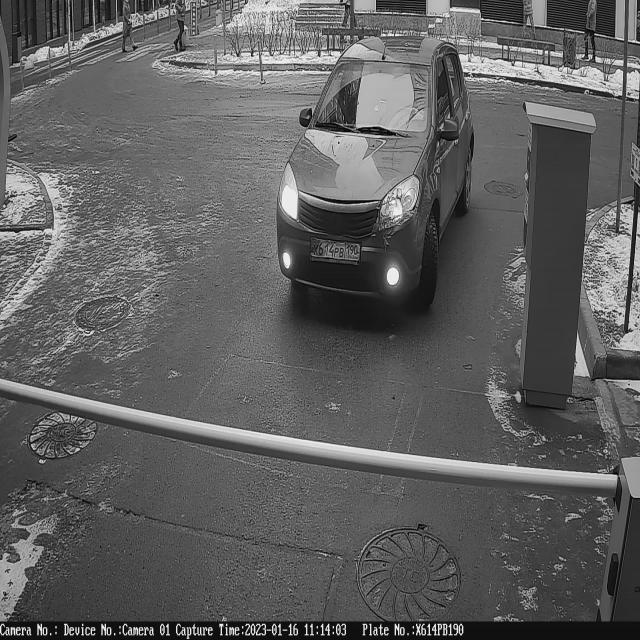car-plate-numbers: (309, 230, 366, 268)
